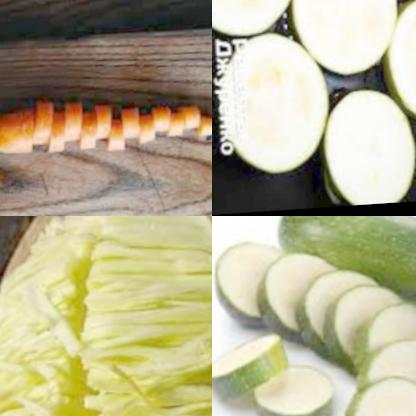cabbage: (0, 216, 212, 416)
carrot: (0, 72, 212, 178)
vegetable marrow: (269, 216, 416, 401), (212, 34, 334, 180), (312, 80, 416, 209), (289, 0, 408, 93), (283, 256, 379, 353), (212, 317, 298, 407), (245, 242, 328, 332), (212, 222, 277, 332), (319, 277, 395, 369), (350, 332, 416, 416), (375, 0, 416, 134), (355, 288, 416, 376), (238, 373, 334, 416), (339, 367, 416, 416)
